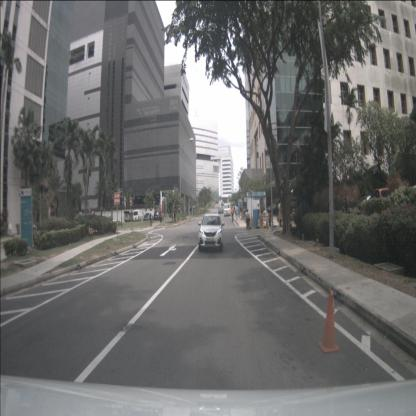human-pedestrian-adult: (246, 209, 250, 230), (149, 209, 153, 226), (173, 207, 177, 222), (235, 205, 238, 221), (231, 206, 234, 222), (240, 205, 243, 220), (159, 209, 162, 222), (234, 204, 237, 216)
movable_object-trafficcone: (318, 290, 340, 353)
vehicle-bicycle: (86, 222, 94, 238)
vehicle-car: (198, 212, 223, 252), (371, 188, 403, 211), (132, 210, 144, 222), (143, 212, 154, 222), (223, 204, 231, 216), (153, 211, 160, 221), (218, 207, 223, 214)
vehicle-truck: (124, 211, 134, 222)
